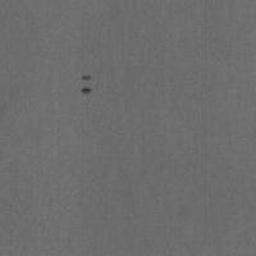Inclusion: (81, 87, 91, 94), (82, 75, 91, 80)
